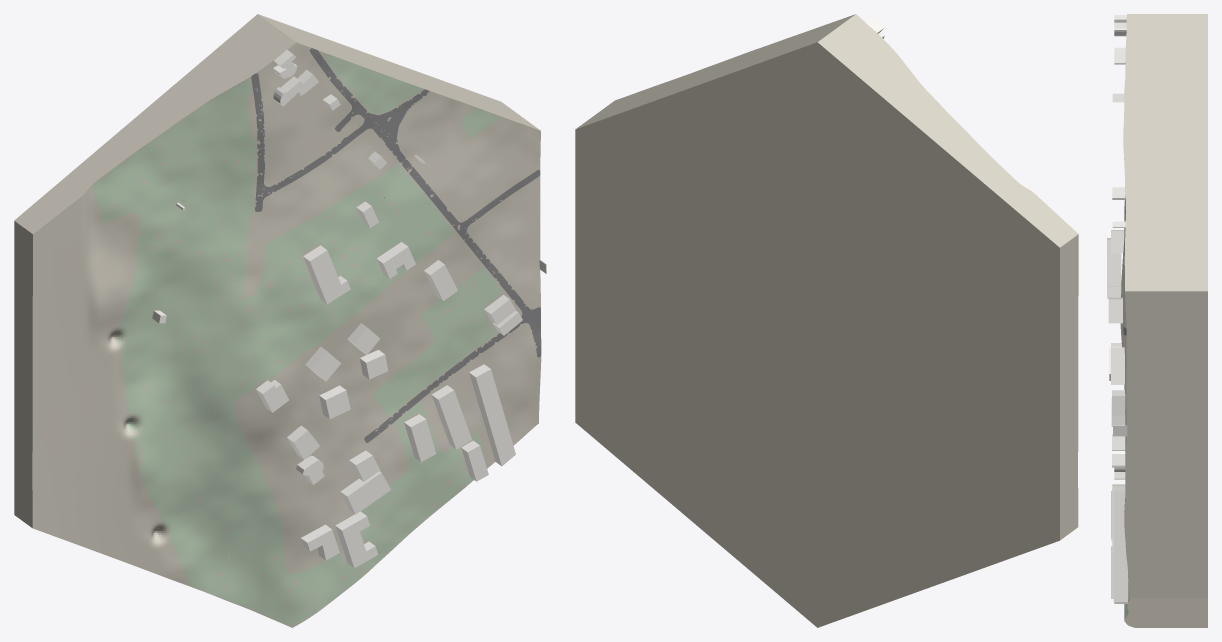
Rendered from map-district.glb.
3 views of the same model, side by side, from view 1: azimuth 30°, elevation 25°; view 2: azimuth 150°, elevation 25°; view 3: azimuth 270°, elevation 25° (orthographic). The views are drawn at different scales.
Parts seen in each view (by area): view 1: Base, Parks, Buildings, Roads; view 2: Base; view 3: Base, Buildings, Parks.
Part boxes in pixels (x1,y1,x2,y2): Base: (14, 14, 541, 627); Parks: (92, 53, 501, 626); Buildings: (152, 50, 546, 568); Roads: (251, 48, 541, 442); Base: (575, 14, 1078, 627); Base: (1121, 14, 1207, 627); Buildings: (1107, 15, 1128, 603); Parks: (1120, 62, 1128, 618).
Size of the model in its own units: 69.28 by 80 by 11.91.
